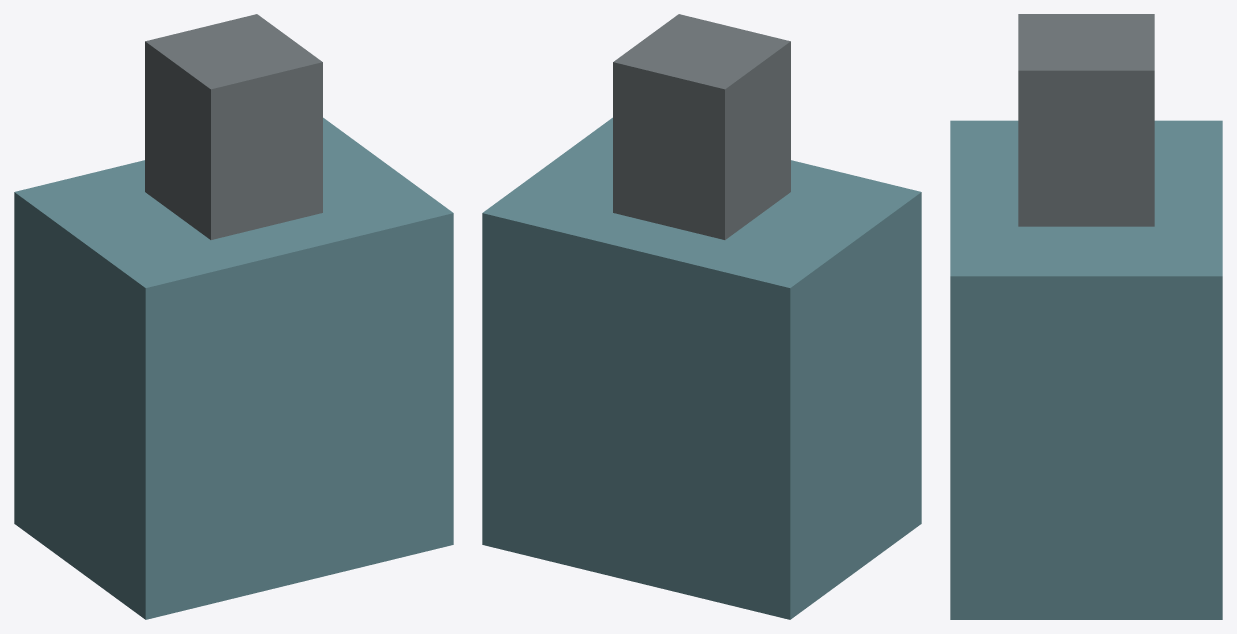
Rendered from iz2_item_empty_bottle_crate.glb.
The picture shows the model from 3 angles, left to right: view 1: azimuth 30°, elevation 25°; view 2: azimuth 150°, elevation 25°; view 3: azimuth 270°, elevation 25°; orthographic projection. The views are drawn at different scales.
Parts seen in each view (by area): view 1: body; view 2: body; view 3: body.
Part boxes in pixels (bbox=[...]): body: bbox=[14, 14, 453, 619]; body: bbox=[482, 14, 921, 619]; body: bbox=[950, 14, 1222, 619].
Size of the model in its own units: 0.2132 by 0.3192 by 0.1576.
